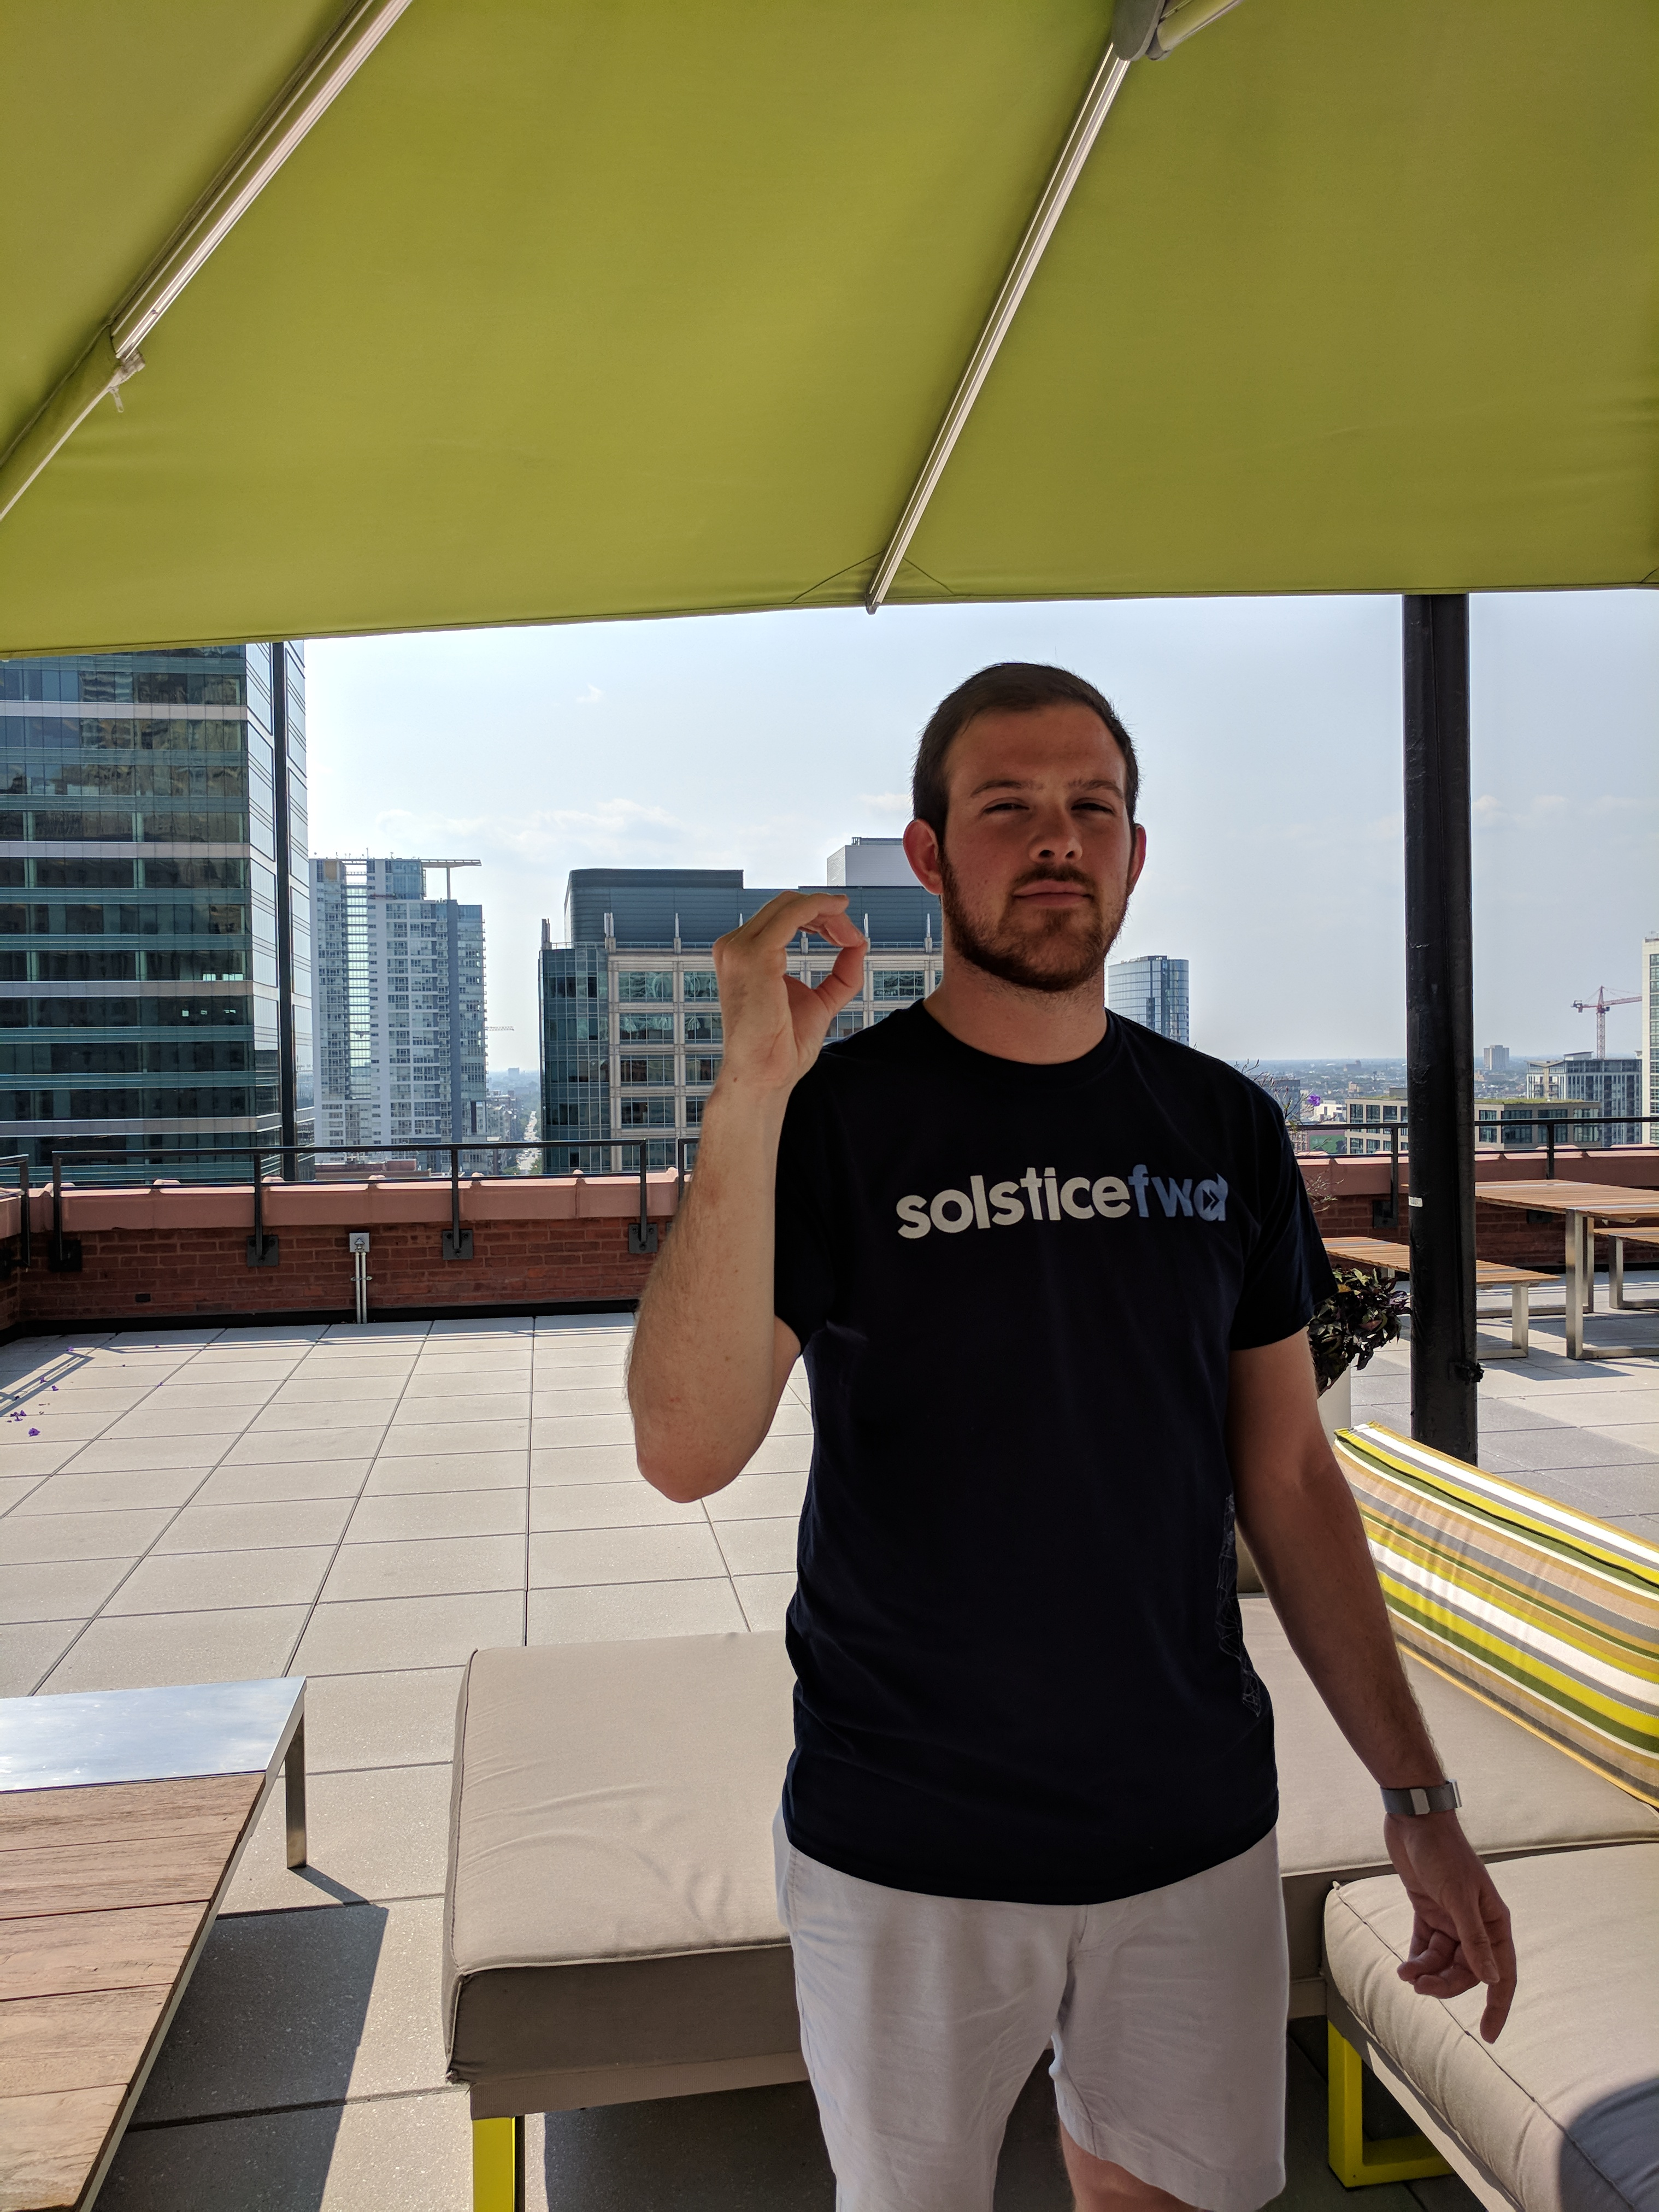o: (697, 881, 882, 1083)
